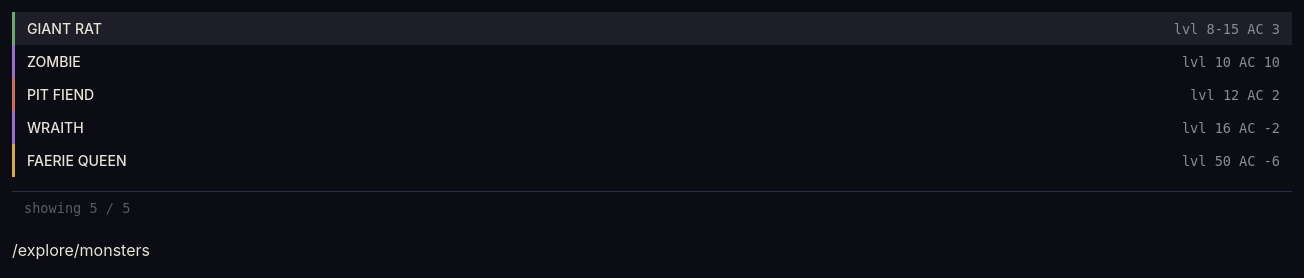
MonsterList › shift-clicking a row toggles it in the compare set (?ids=)
Click the button "GIANT RAT lvl 8-15 AC 3" at [65, 28], box [12, 12, 1292, 45]
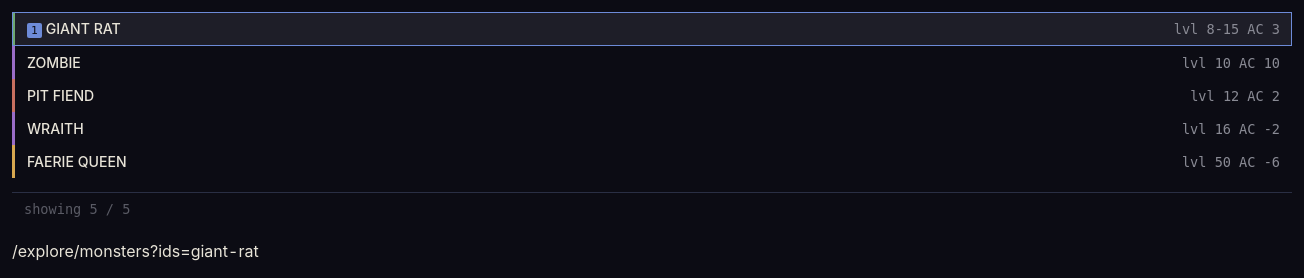
Now the text with test id "location" shows "giant-rat", box [150, 241, 259, 261]
